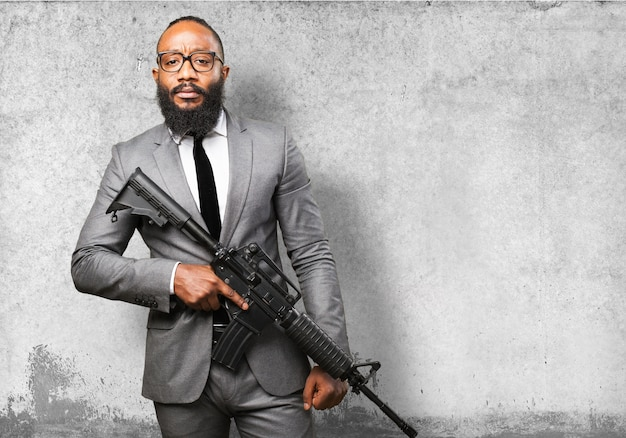gun: (106, 165, 417, 438)
